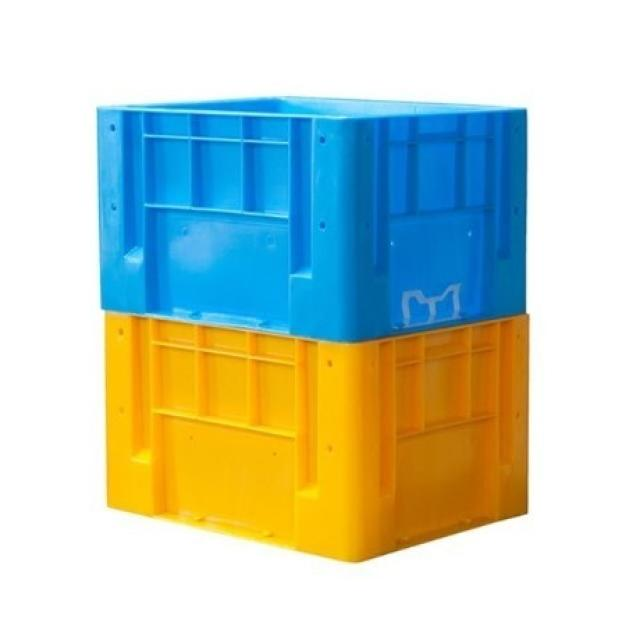basket: (99, 96, 526, 342), (105, 315, 529, 562)
